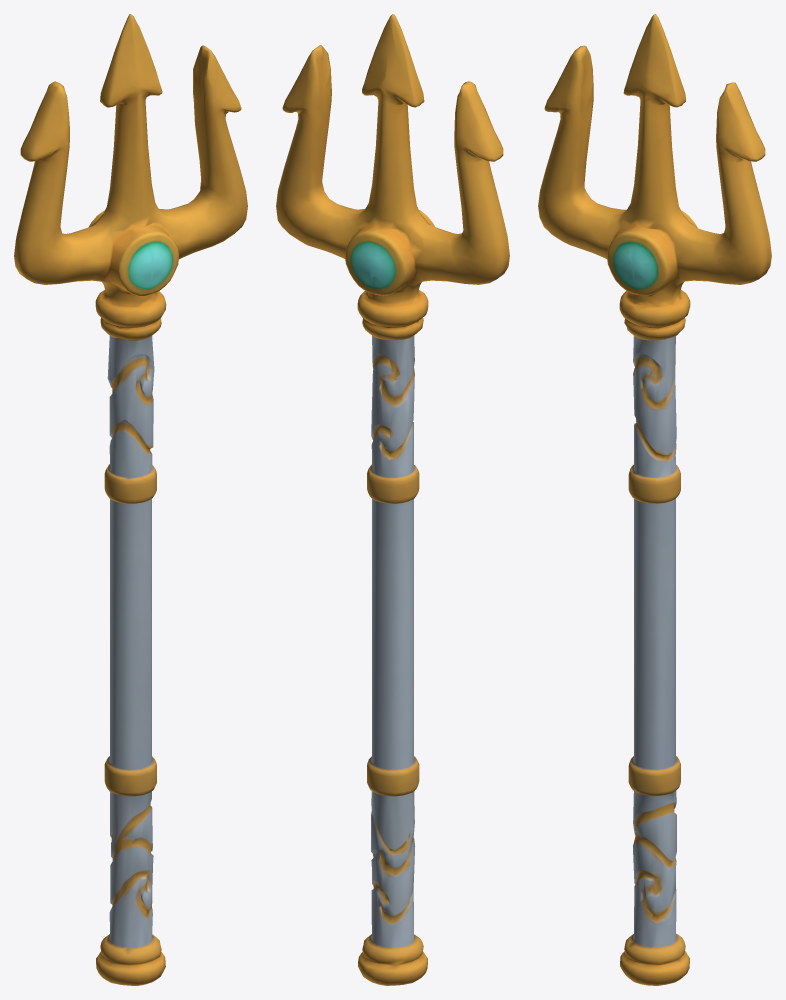
The model's file is wpn_poseidon.glb.
3 views of the same model, side by side, from view 1: azimuth 30°, elevation 25°; view 2: azimuth 150°, elevation 25°; view 3: azimuth 330°, elevation 25° (orthographic).
Visible parts, largest first — view 1: geometry_0; view 2: geometry_0; view 3: geometry_0.
Boxes of the visible parts, x1,y1,x2,y2 form: geometry_0: (14, 14, 247, 985); geometry_0: (276, 14, 509, 985); geometry_0: (538, 14, 771, 985).
Size of the model in its own units: 0.2339 by 0.9512 by 0.0776.
1 material, 1 textured.
